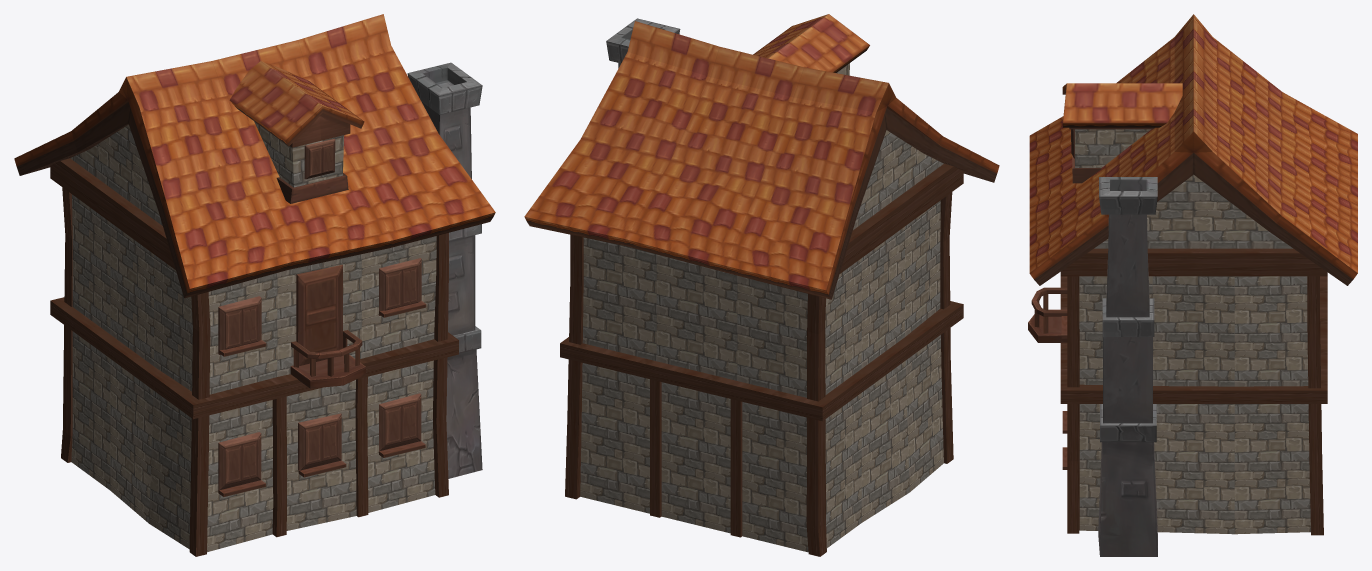
The model's file is OutdoorM_Bldg_a.FBX.
3 views of the same model, side by side, from view 1: azimuth 30°, elevation 25°; view 2: azimuth 150°, elevation 25°; view 3: azimuth 270°, elevation 25° (orthographic). The views are drawn at different scales.
Parts seen in each view (by area): view 1: OutdoorM_Bldg_a; view 2: OutdoorM_Bldg_a; view 3: OutdoorM_Bldg_a.
Part boxes in pixels (<box>): OutdoorM_Bldg_a: <box>14,14,495,556</box>; OutdoorM_Bldg_a: <box>524,14,999,556</box>; OutdoorM_Bldg_a: <box>1028,14,1357,556</box>.
Size of the model in its own units: 60.14 by 74.86 by 55.47.
